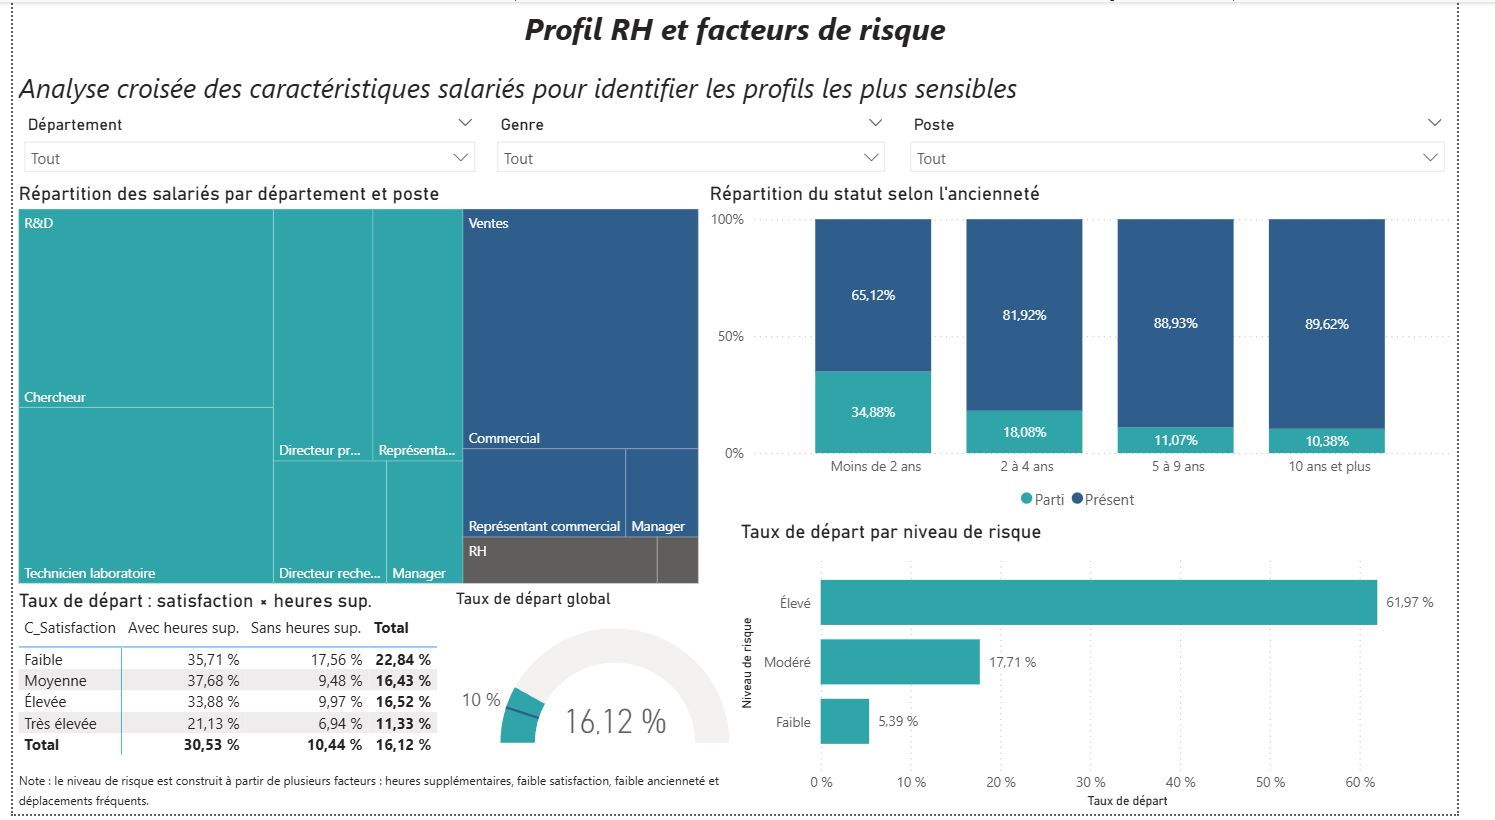

What the dashboard file says about the page in this screenshot:
{"tool":"powerbi","page":{"name":"Profil RH & facteurs de risque","canvas":[1280,720],"ordinal":3},"visuals":[{"type":"textbox","box":[0,0,1280.4,54],"z":0},{"type":"textbox","box":[0,54.1,1280.4,41.7],"z":1000},{"type":"slicer","fields":{"Values":["Employees.C_Genre"]},"box":[419.7,96.1,364.4,63.5],"z":2000},{"type":"slicer","fields":{"Values":["Employees.C_Poste"]},"box":[785.9,96.1,494.1,63.5],"z":3000},{"type":"slicer","fields":{"Values":["Employees.C_Department_Label"]},"box":[0,96.1,419.7,63.5],"z":4000},{"type":"treemap","title":"Répartition des salariés par département et poste","fields":{"Group":["Employees.C_Department_Label"],"Details":["Employees.C_Poste"],"Values":["Employees.m_Total_Employees"]},"box":[0,159.6,612.7,360.9],"z":5000},{"type":"gauge","title":"Taux de départ global","fields":{"Y":["Employees.m_Attrition_Rate"]},"box":[387.5,520.5,252.7,155.2],"z":6000},{"type":"hundredPercentStackedColumnChart","title":"Répartition du statut selon l''ancienneté","fields":{"Category":["Employees.C_Anciennete"],"Series":["Employees.C_Attrition_Label"],"Y":["Employees.m_Total_Employees"]},"box":[612.7,159.6,666.8,299.7],"z":7000},{"type":"pivotTable","title":"Taux de départ : satisfaction × heures sup.","fields":{"Rows":["Employees.C_Satisfaction"],"Columns":["Employees.C_Heures_Supplementaires"],"Values":["Employees.m_Attrition_Rate"]},"box":[0,520.5,387.5,155.2],"z":8000},{"type":"barChart","title":"Taux de départ par niveau de risque","fields":{"Category":["Employees.C_Risk_Level"],"Y":["Employees.m_Attrition_Rate"]},"box":[640.2,459.3,639.3,259.8],"z":9000},{"type":"textbox","box":[0,675.7,640.2,44.3],"z":10000}]}

Visuals, with their boxes in screenshot pixels (x1, y1, x2, y2), scaled from the page's 1280x720 canvas onto the 1495x820 screenshot:
textbox: 0,0,1494,62
textbox: 0,62,1494,109
slicer - Employees.C_Genre: 490,109,916,182
slicer - Employees.C_Poste: 918,109,1494,182
slicer - Employees.C_Department_Label: 0,109,490,182
"Répartition des salariés par département et poste" treemap: 0,182,716,593
"Taux de départ global" gauge: 453,593,748,770
"Répartition du statut selon l''ancienneté" hundredPercentStackedColumnChart: 716,182,1494,523
"Taux de départ : satisfaction × heures sup." pivotTable: 0,593,453,770
"Taux de départ par niveau de risque" barChart: 748,523,1494,819
textbox: 0,770,748,819
